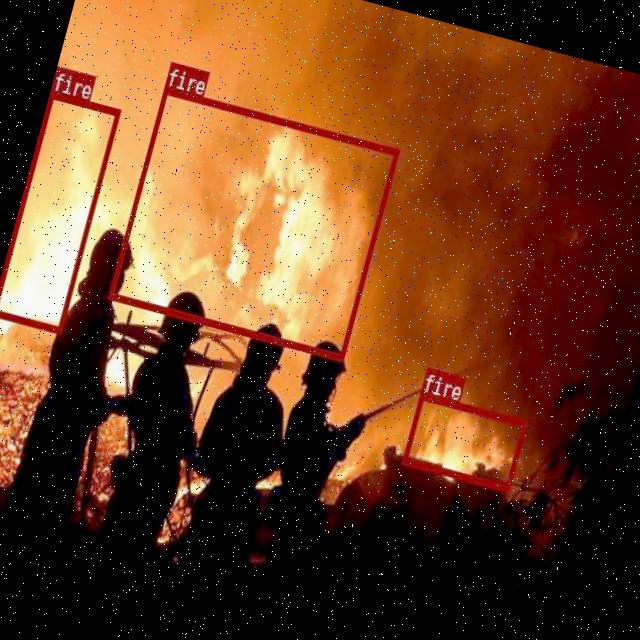fire: (108, 86, 398, 360), (0, 89, 121, 332), (401, 390, 527, 491)
